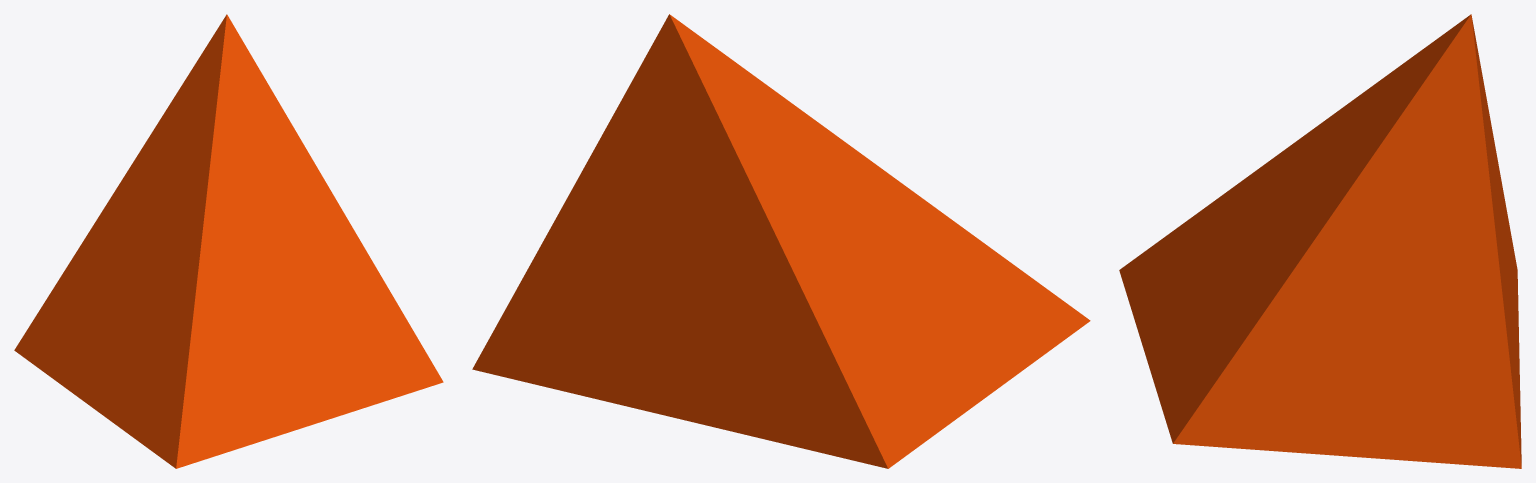
Rendered from earthquakeRock.glb.
3 renders of one model, left to right at view 1: azimuth 30°, elevation 25°; view 2: azimuth 150°, elevation 25°; view 3: azimuth 270°, elevation 25°, orthographic. The views are drawn at different scales.
Parts seen in each view (by area): view 1: Cube; view 2: Cube; view 3: Cube.
Part boxes in pixels (x1,y1,x2,y2): Cube: (14,14,443,468); Cube: (472,14,1090,468); Cube: (1119,14,1521,468).
Size of the model in its own units: 1.71 by 1.49 by 1.46.
